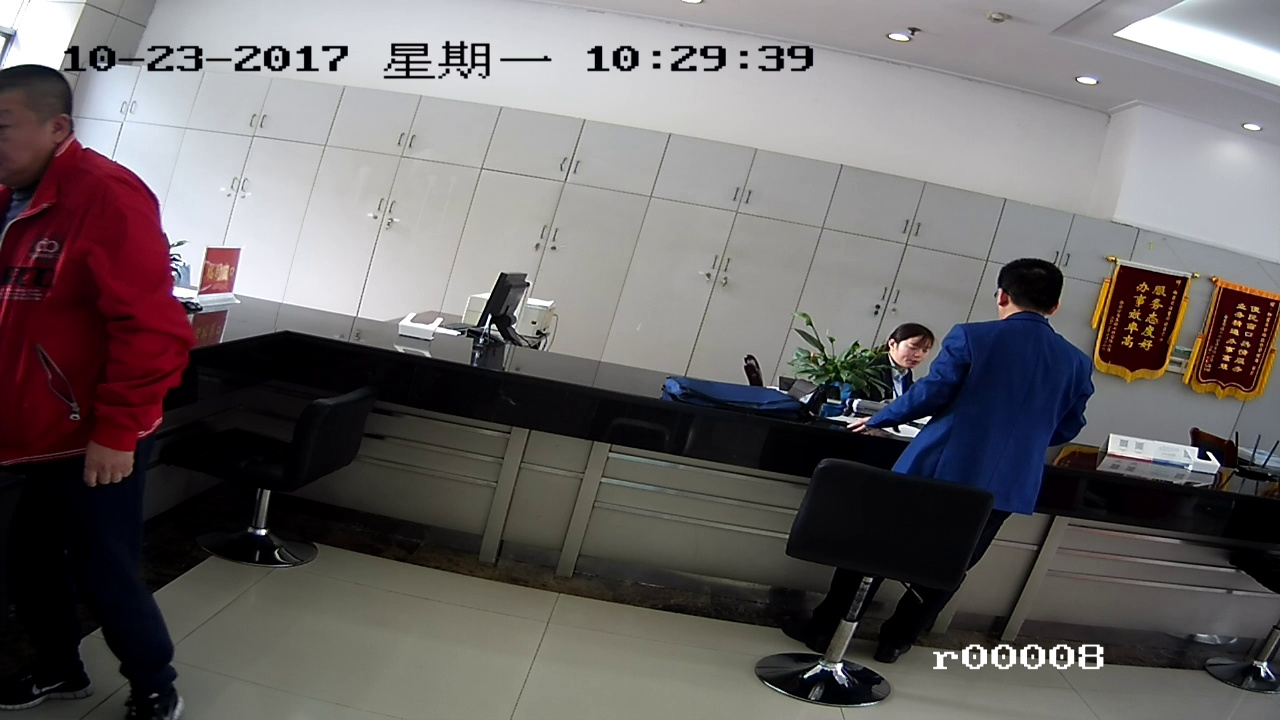chair: (754, 460, 978, 713), (204, 396, 381, 578)
monitor: (469, 275, 547, 351)
person: (1, 69, 194, 695), (943, 262, 1100, 516), (870, 309, 932, 380)
